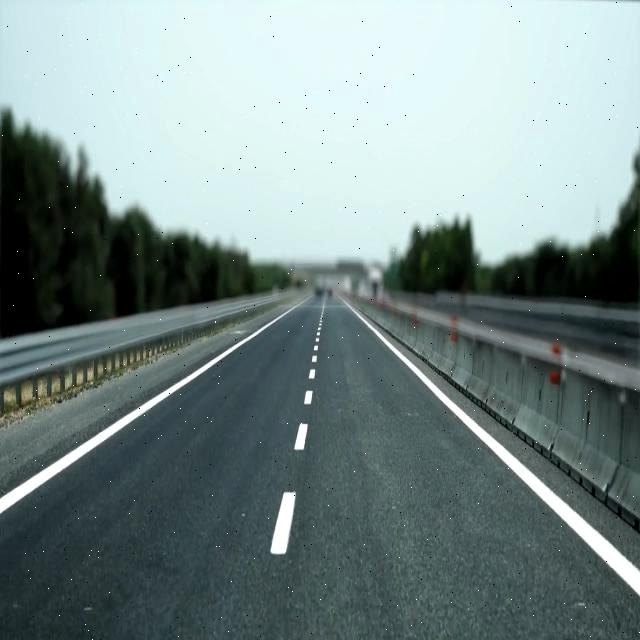lane: (342, 298, 640, 596), (0, 304, 300, 513), (270, 492, 296, 555), (294, 424, 307, 449), (305, 390, 312, 404)
road: (1, 297, 640, 639), (402, 349, 640, 566)
